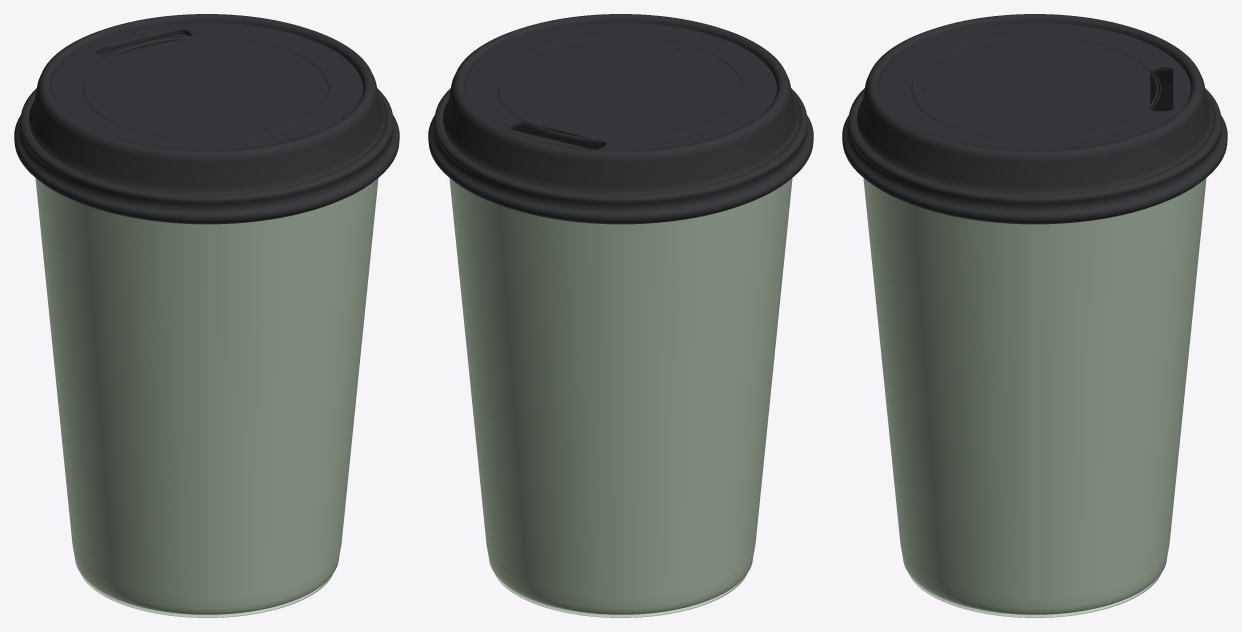
Rendered from velune-sage-study.glb.
3 views of the same model, side by side, from view 1: azimuth 30°, elevation 25°; view 2: azimuth 150°, elevation 25°; view 3: azimuth 270°, elevation 25° (orthographic).
Parts seen in each view (by area): view 1: Paper_body, Lid_recess_with_sip_aperture_and_vent, Lid_raised_drinking_wall, Lid_snap_collar, Moulded_lid_detail (×3), Folded_bottom_foot; view 2: Paper_body, Lid_recess_with_sip_aperture_and_vent, Lid_raised_drinking_wall, Lid_snap_collar, Moulded_lid_detail (×3), Folded_bottom_foot, Dark_interior_below_aperture; view 3: Paper_body, Lid_recess_with_sip_aperture_and_vent, Lid_raised_drinking_wall, Lid_snap_collar, Moulded_lid_detail (×3), Folded_bottom_foot, Dark_interior_below_aperture.
Part boxes in pixels (x1,y1,x2,y2): Paper_body: [35, 178, 378, 614]; Lid_recess_with_sip_aperture_and_vent: [51, 23, 362, 150]; Lid_raised_drinking_wall: [28, 14, 385, 194]; Lid_snap_collar: [14, 88, 399, 224]; Moulded_lid_detail (×3): [25, 35, 388, 195]; Folded_bottom_foot: [80, 573, 333, 617]; Paper_body: [449, 178, 792, 614]; Lid_recess_with_sip_aperture_and_vent: [465, 23, 776, 150]; Lid_raised_drinking_wall: [442, 14, 799, 194]; Lid_snap_collar: [428, 88, 813, 224]; Moulded_lid_detail (×3): [439, 35, 802, 195]; Folded_bottom_foot: [494, 573, 747, 617]; Dark_interior_below_aperture: [511, 126, 603, 149]; Paper_body: [863, 178, 1206, 614]; Lid_recess_with_sip_aperture_and_vent: [879, 23, 1190, 150]; Lid_raised_drinking_wall: [856, 14, 1213, 194]; Lid_snap_collar: [842, 71, 1227, 224]; Moulded_lid_detail (×3): [853, 35, 1216, 195]; Folded_bottom_foot: [908, 573, 1161, 617]; Dark_interior_below_aperture: [1150, 72, 1172, 111].
Size of the model in its own units: 1.86 by 2.56 by 1.86.
